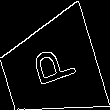P_W: (24, 43, 78, 94)
